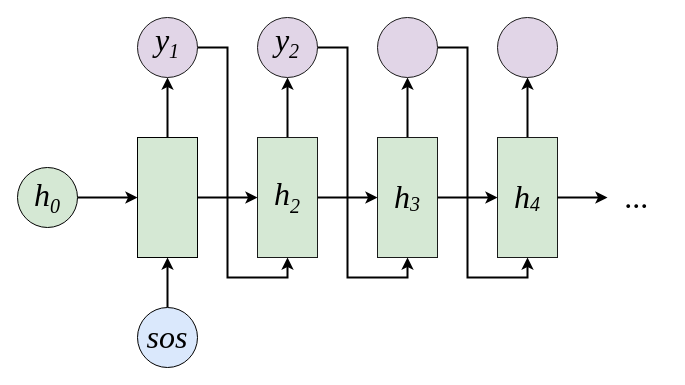
Image size: 685x385. Some labels were removed from this diagram. Each missing label, with the box of its shape:
h 1: (136, 136, 198, 258)
y 3: (376, 16, 438, 78)
y 4: (496, 16, 558, 78)
